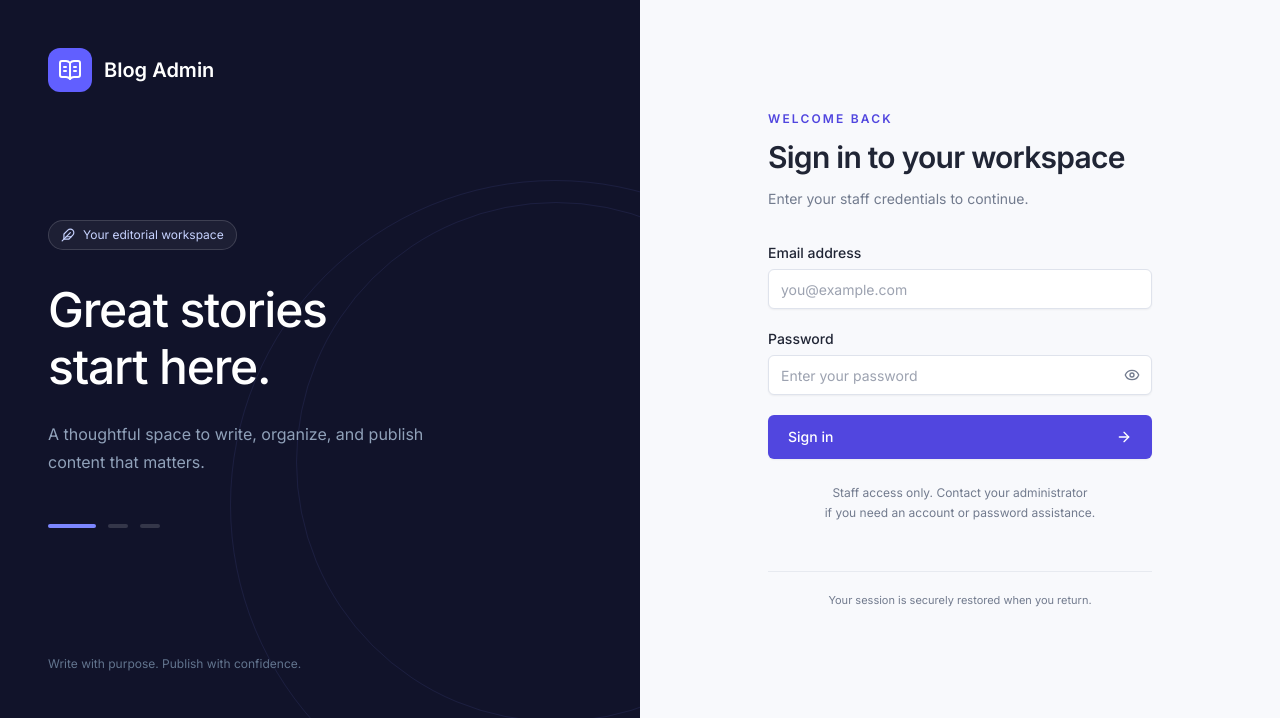
it: allows cancelling without creating or selecting a category
Type "alex@example.test" into the field labelled "Email address".
click(960, 289); type("alex@example.test")  # box [768,269,1152,309]
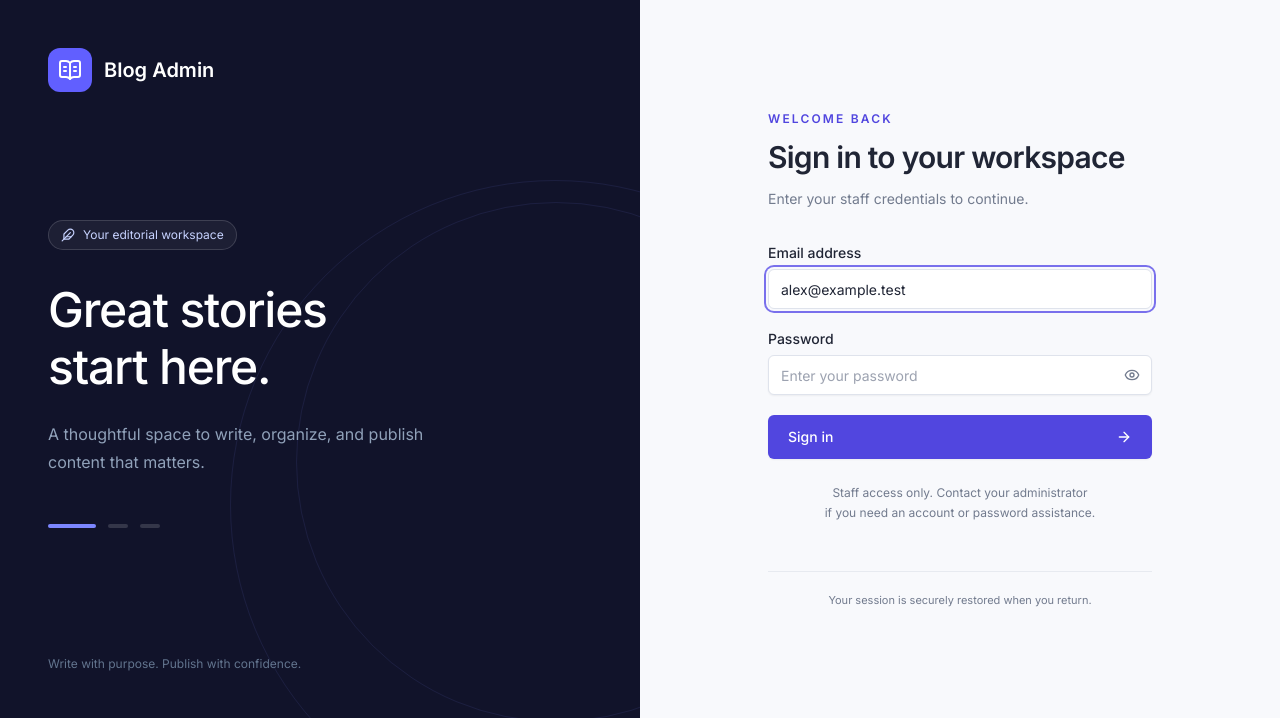
Type "a-secure-password" into the password field labelled "Password".
click(960, 375); type("a-secure-password")  # box [768,355,1152,395]
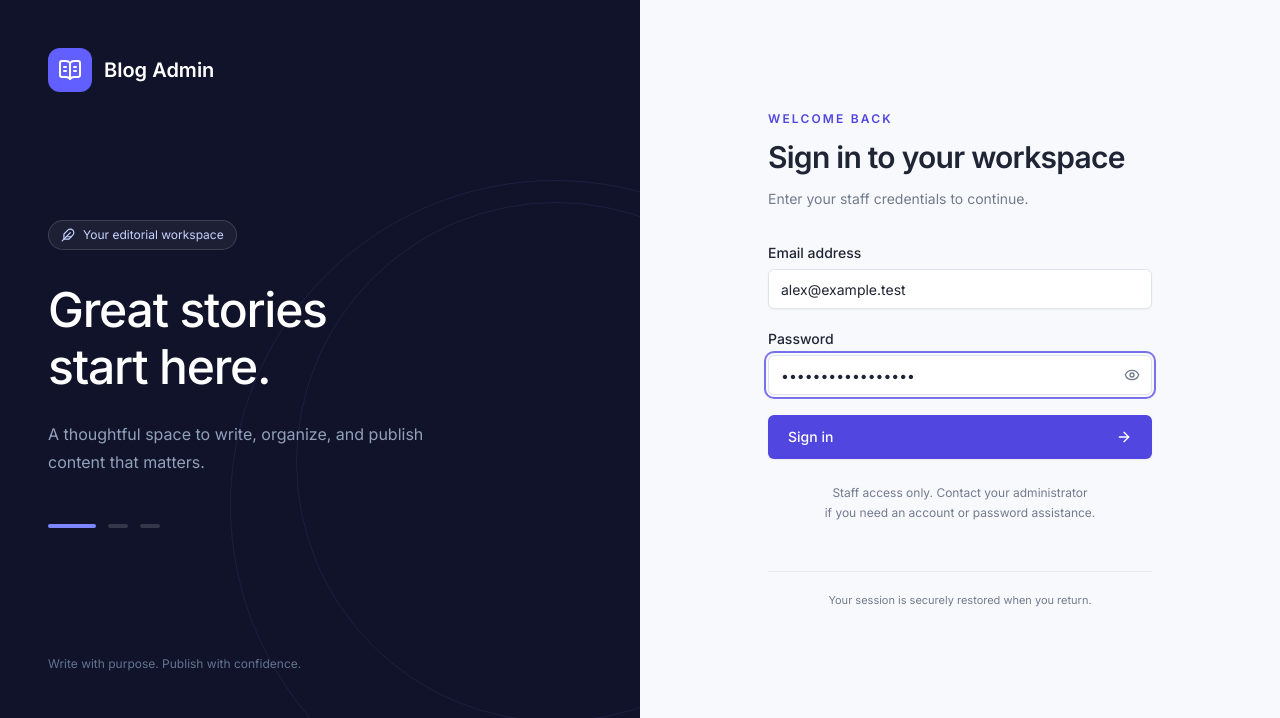
Click the button "Sign in".
click(811, 437)  # box [768,415,1152,459]
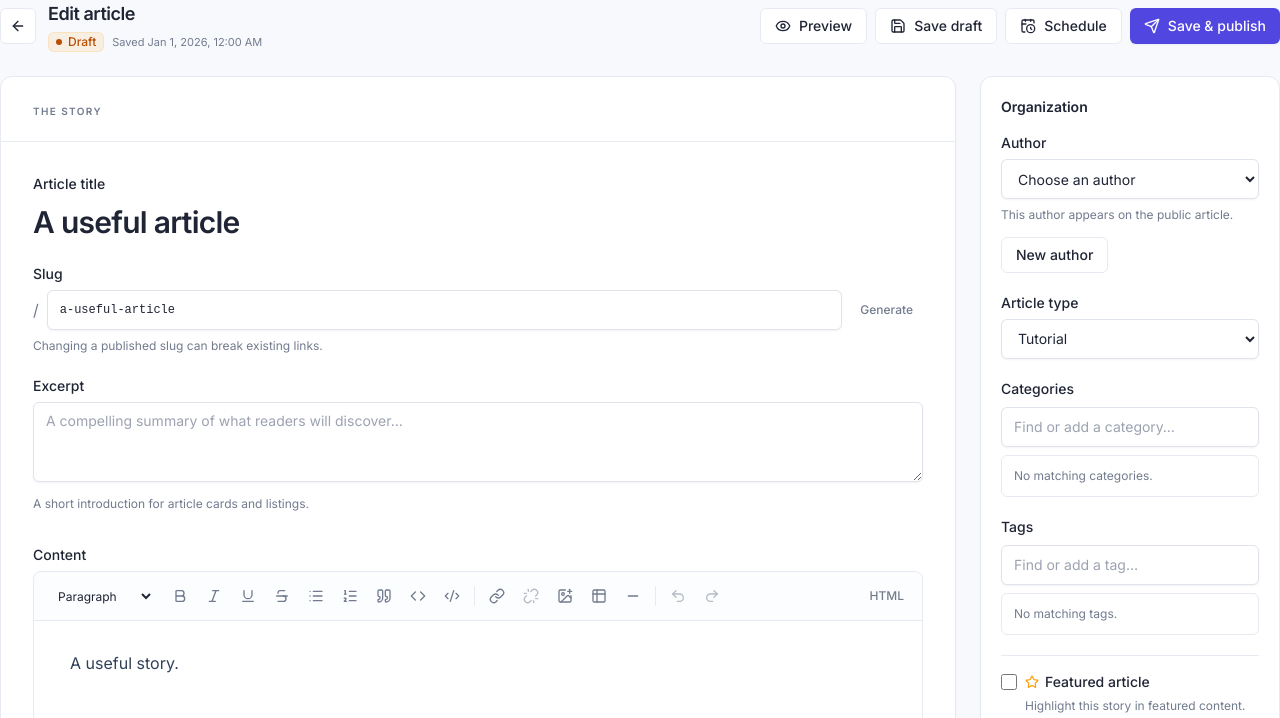
Now the field named "Search categories" is shown
Type "New category" into the field named "Search categories".
click(1130, 426); type("New category")  # box [1001,406,1259,446]
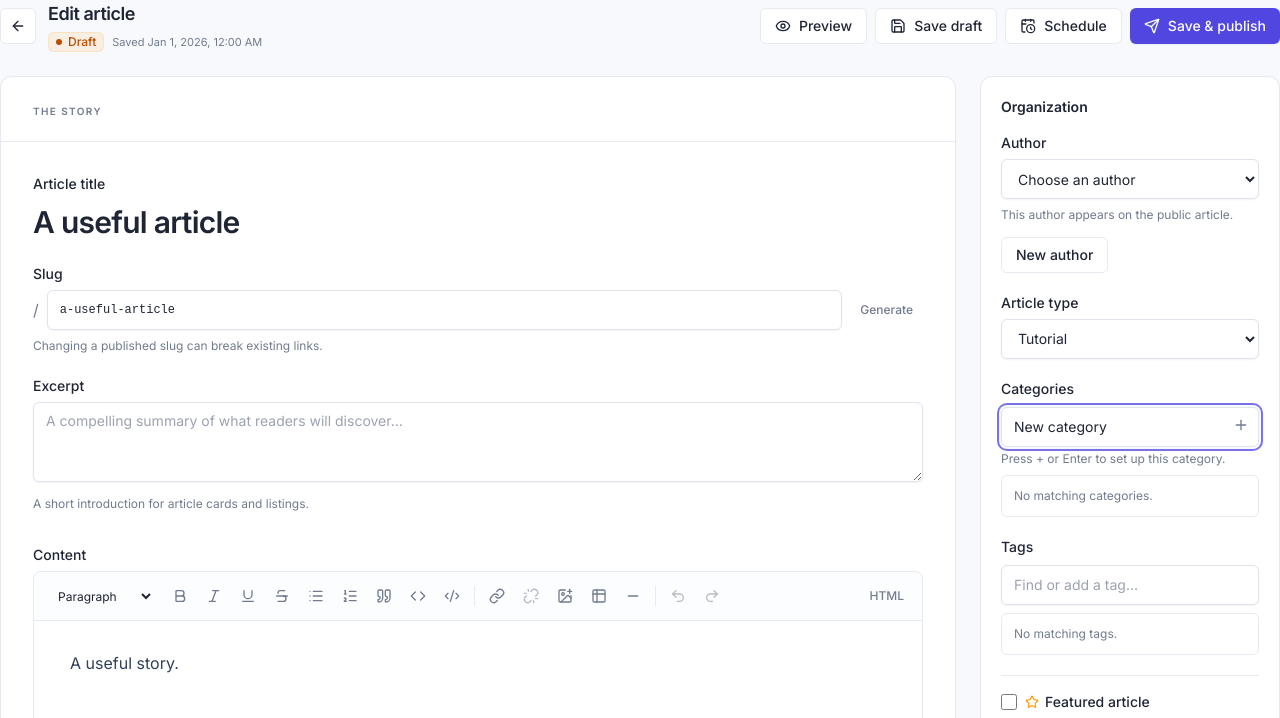
Press Enter
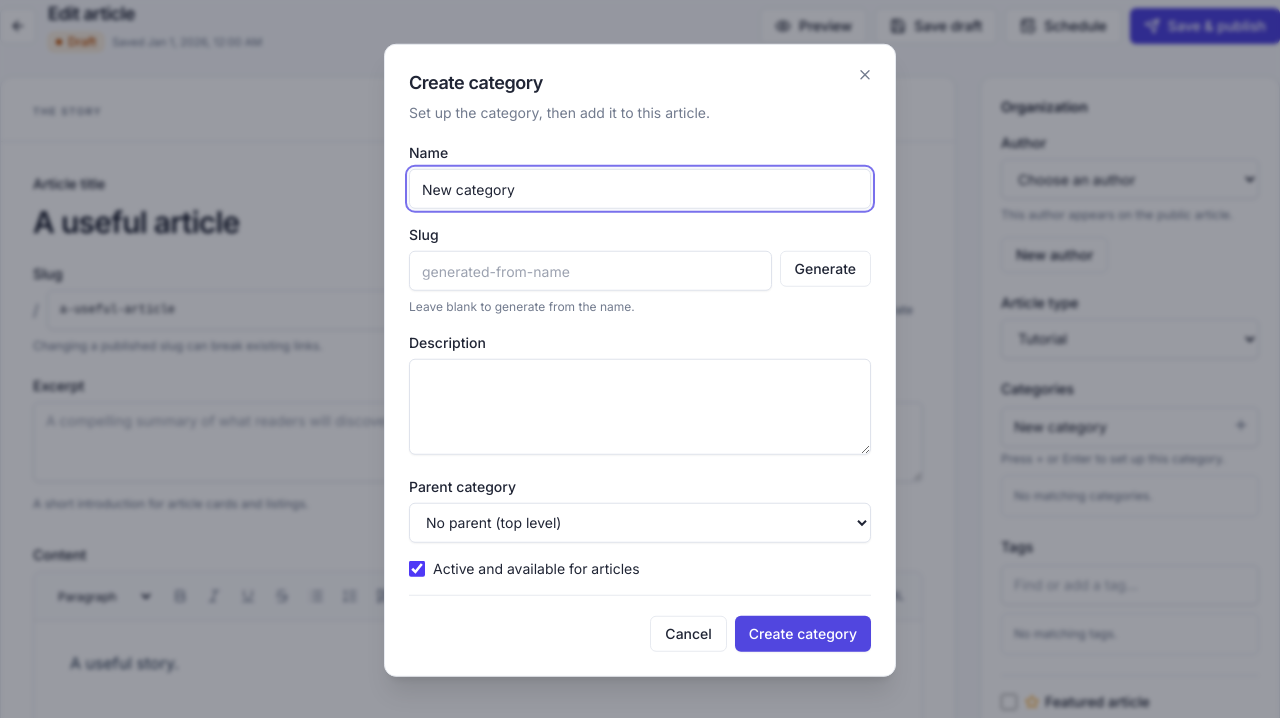
Click the button "Cancel".
click(689, 633)  # box [650,615,727,651]
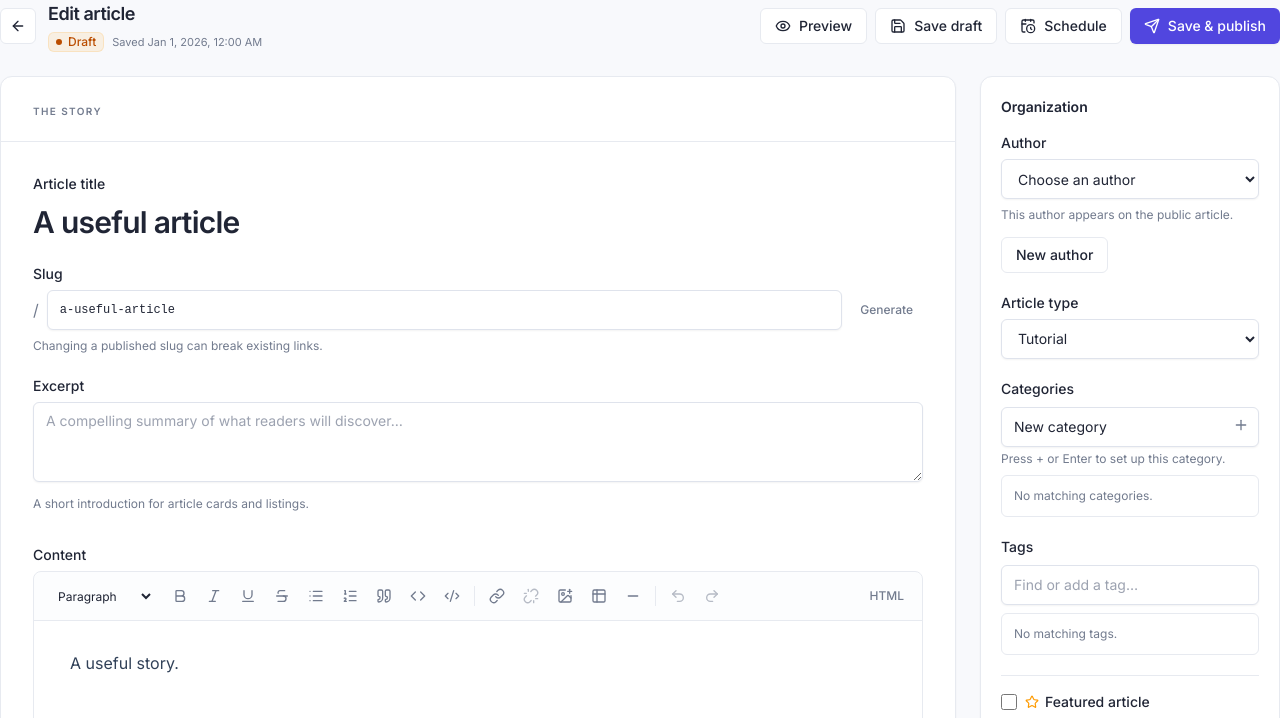
Now the dialog is gone
